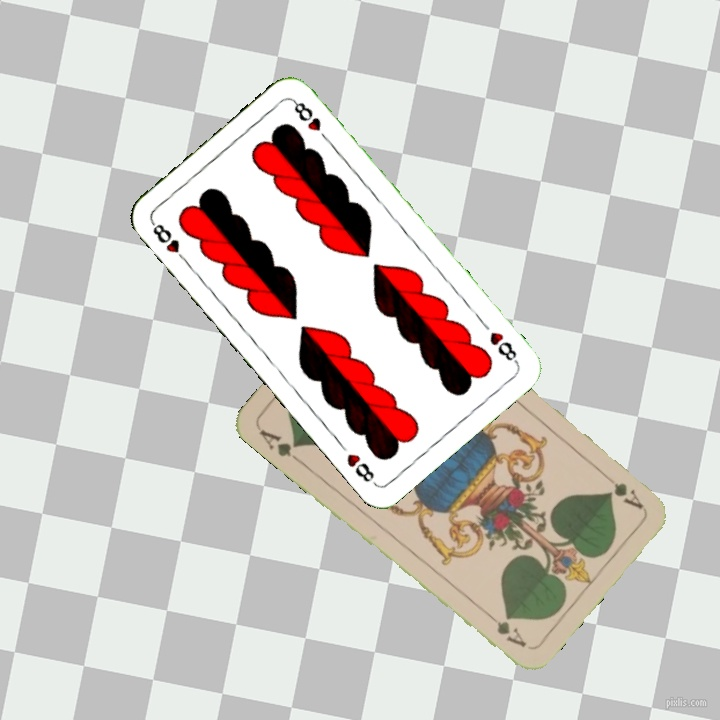GA: (597, 467, 647, 512), (254, 424, 305, 467)
H8: (147, 217, 191, 266), (486, 327, 521, 366)
